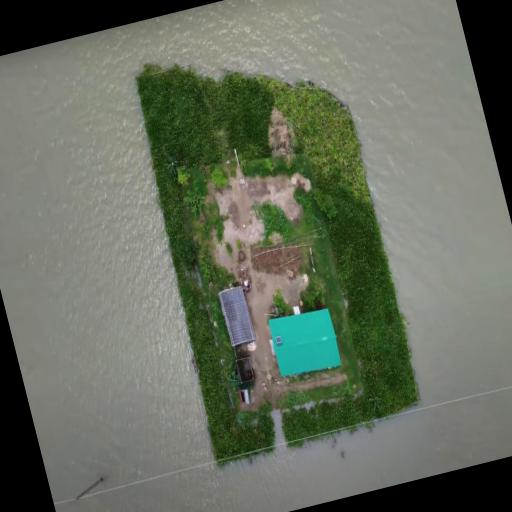flood: (0, 0, 512, 512)
house: (263, 297, 350, 393)
